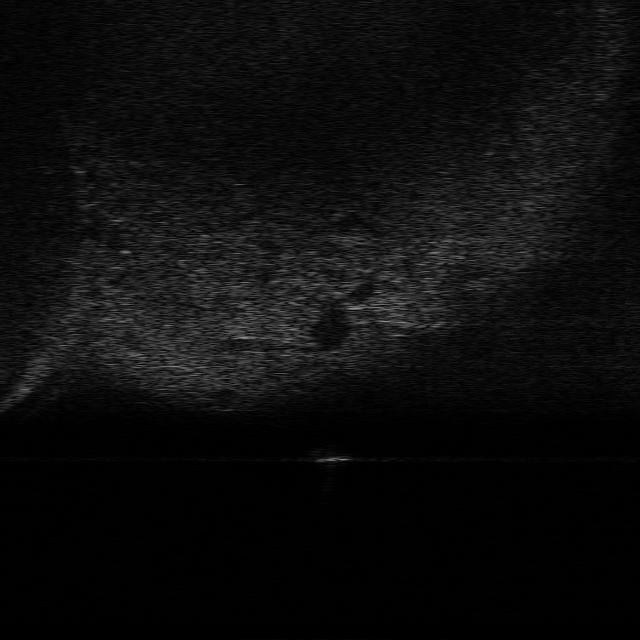cube: (306, 445, 355, 468)
